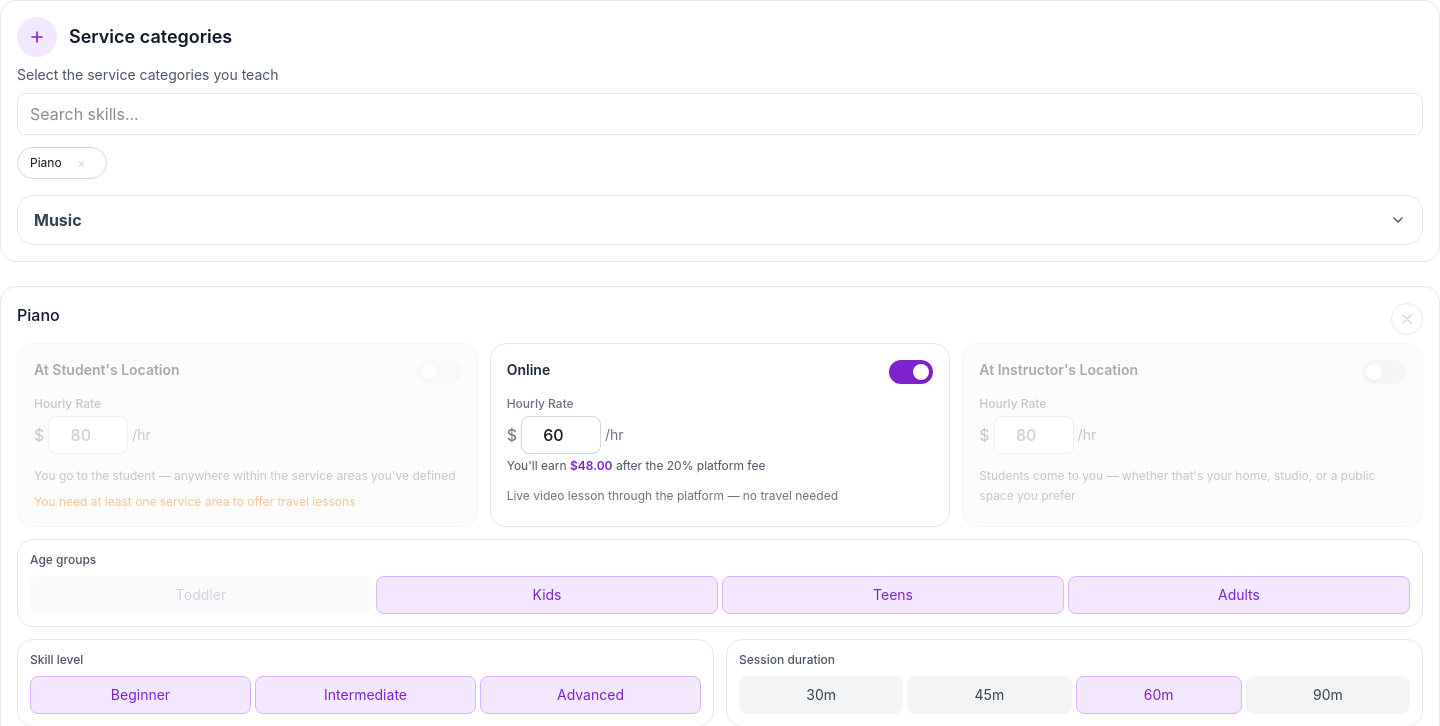
SkillsPricingInline › blocks removal of the last skill for live instructors
The width and height of the screenshot is (1440, 726).
Click the button named "remove skill": point(1407, 319) [1391, 303, 1423, 335]
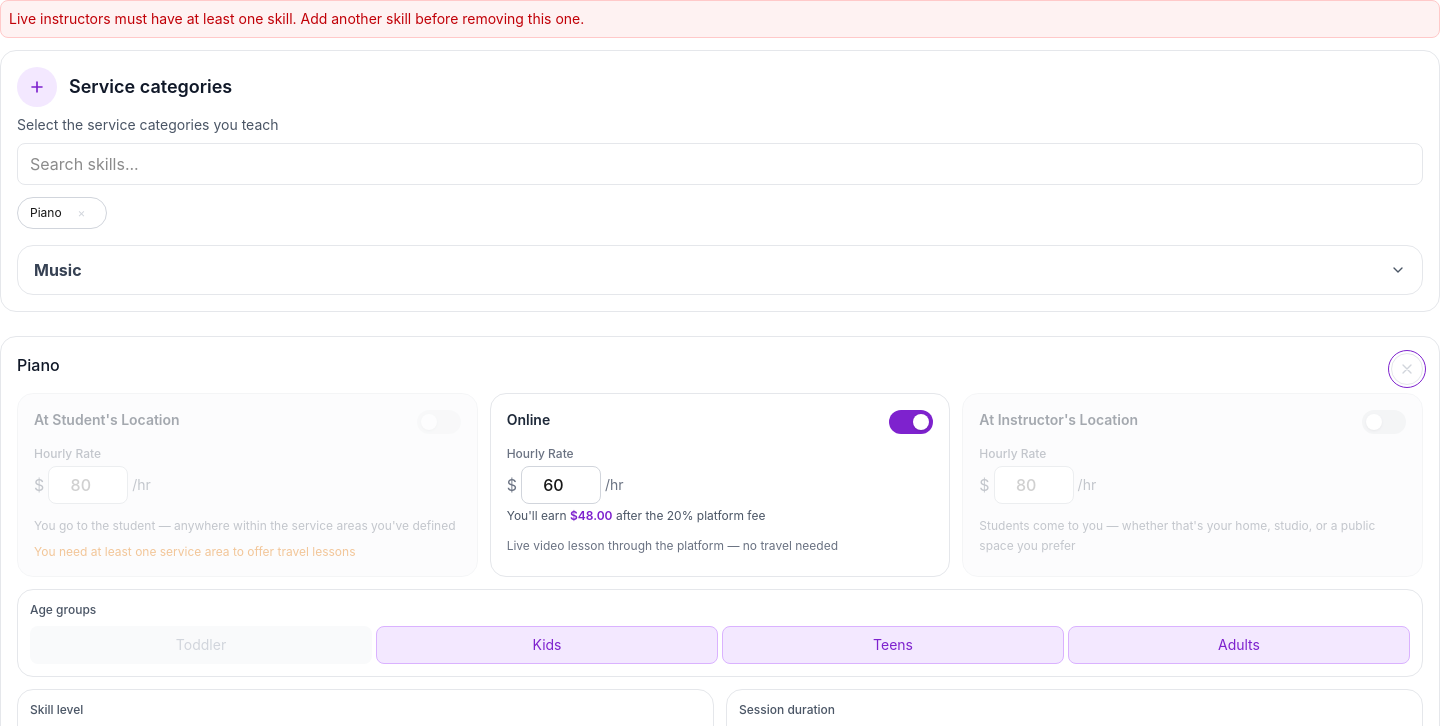
Expected: the text "must have at least one skill" is shown, [9, 10, 584, 27]
